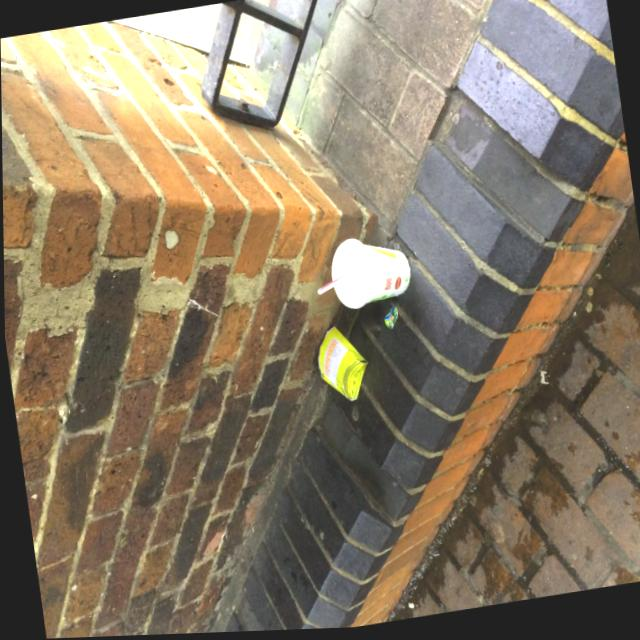Paper: (323, 236, 414, 314), (308, 317, 375, 419)
Plastic: (311, 271, 356, 298), (377, 302, 401, 335), (322, 240, 324, 244)
